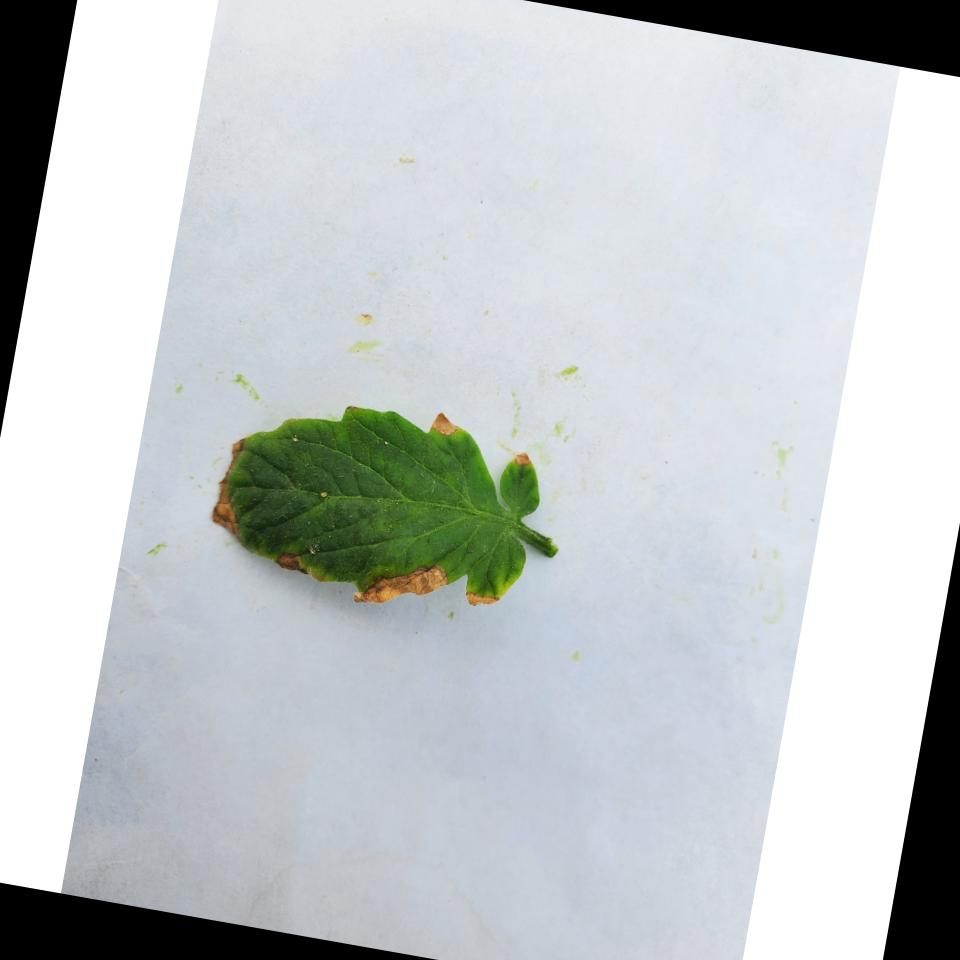tomato_bacterial_blight: (203, 386, 573, 640)
